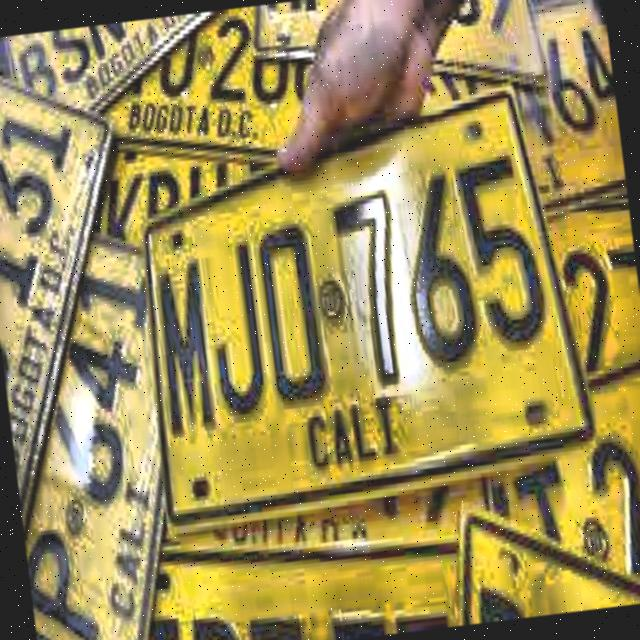plate: (145, 91, 593, 527)
